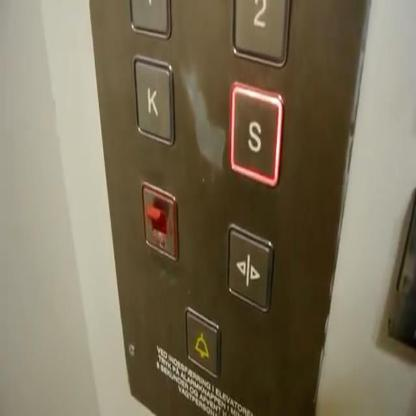2: (229, 0, 292, 71)
K: (128, 50, 176, 151)
S: (226, 79, 285, 190)
alarm: (183, 302, 221, 382)
bt_switch: (140, 178, 180, 263)
open: (223, 218, 275, 320)
